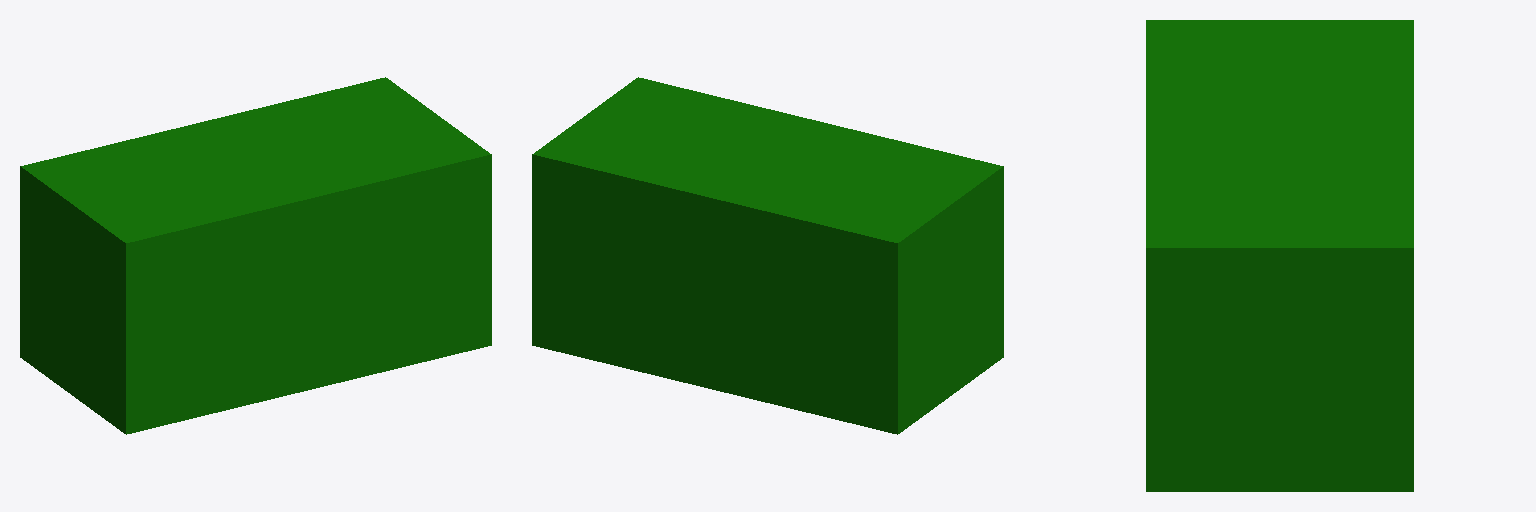
The robot description file, URDF, robot "Chevy":
<?xml version="1.0"?>

<robot name="Chevy">

    <link name="world">
    </link>

    <link name="body">
        <inertial>
            <origin xyz="0 0 0" rpy="0 0 0" />
            <mass value="10" />
            <inertia ixx="41.6667" ixy="0" ixz="0" iyy="104.1667" iyz="0" izz="104.1667" />
        </inertial>
        <visual>
            <origin xyz="0 0 0" rpy="0 0 0" />
            <geometry>
                <box size="10 5 5" />
            </geometry>
            <material name="green">
	            <color rgba="0.1 0.5 0.05 0.5" />
            </material>
        </visual>
    </link>

    <link name="limb">
        <inertial>
            <origin xyz="0 0 0" rpy="0 0 0" />
            <mass value="10" />
            <inertia ixx="41.6667" ixy="0" ixz="0" iyy="104.1667" iyz="0" izz="104.1667" />
        </inertial>
        <visual>
            <origin xyz="0 0 0" rpy="0 0 0" />
            <geometry>
                <box size="10 5 5" />
            </geometry>
            <material name="green">
	            <color rgba="0.1 0.5 0.05 0.5" />
            </material>
        </visual>
    </link>

    <joint name="body_to_world" type="floating">
        <parent link="world" />
        <child link="body" />
        <!--<origin xyz="0 0 2.5"/>-->
    </joint>

    <joint name="limb_to_world" type="floating">
        <parent link="world" />
        <child link="limb" />
        <!--
            <origin xyz="7.5 7.5 7.5" rpy="0 0 1.57"/>
        -->
    </joint>

</robot>

--- What the picture shows (computed from the rendered views, not written in the file) ---
Views: 3 orthographic renders of the robot side by side, from view 1: azimuth 30°, elevation 25°; view 2: azimuth 150°, elevation 25°; view 3: azimuth 270°, elevation 25°.
Model Chevy with 3 links and 2 joints (2 floating), rooted at world, posed all joints at 0.
Links seen in each view (by area): view 1: body; view 2: body; view 3: body.
Link boxes in pixels (x1,y1,x2,y2): body: (20,77,491,434); body: (532,77,1003,434); body: (1146,20,1413,491).
Size in the robot's own frame: 10 by 5 by 5 metres.
Geometry: primitives only (box / cylinder / sphere), no mesh files.